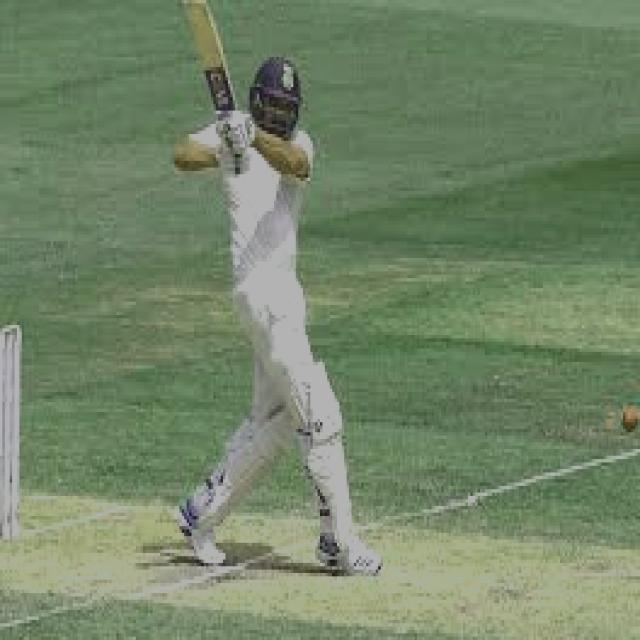toe: (180, 0, 214, 17)
